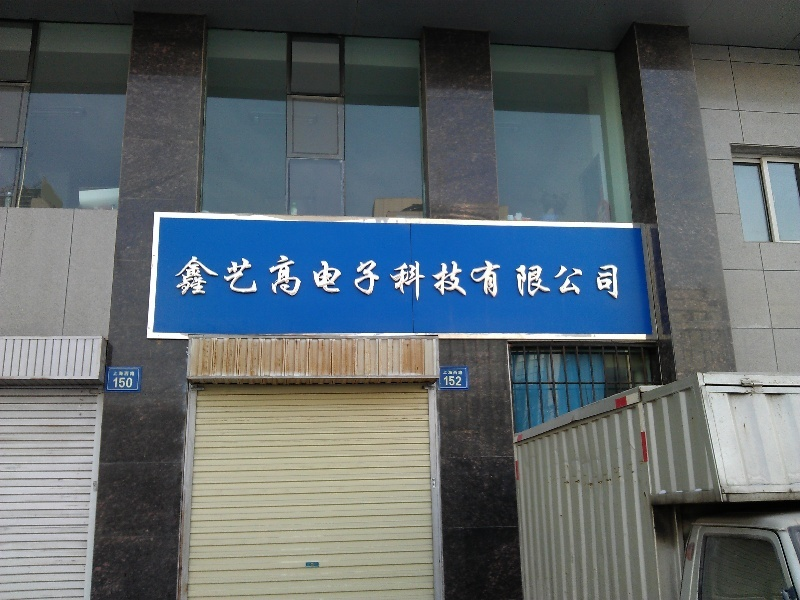text: (177, 254, 192, 304), (193, 254, 208, 304), (209, 254, 224, 304), (225, 254, 240, 304), (241, 254, 256, 304), (257, 254, 272, 304), (273, 254, 288, 304), (289, 254, 304, 304), (305, 254, 320, 304), (321, 254, 336, 304), (337, 254, 352, 304), (353, 254, 368, 304), (369, 254, 384, 304), (385, 254, 400, 304), (401, 254, 416, 304), (417, 254, 432, 304), (433, 254, 448, 304), (449, 254, 464, 304), (465, 254, 480, 304), (481, 254, 496, 304), (497, 254, 512, 304), (513, 254, 528, 304), (529, 254, 544, 304), (545, 254, 560, 304), (561, 254, 576, 304), (577, 254, 592, 304), (593, 254, 608, 304), (609, 254, 621, 304), (114, 377, 128, 388), (449, 376, 462, 386), (114, 371, 128, 377), (449, 370, 463, 376), (129, 377, 133, 388), (129, 371, 136, 377), (445, 376, 448, 386), (444, 370, 448, 376)
